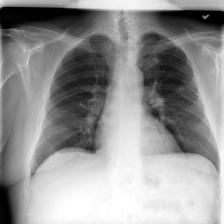normal: (24, 30, 220, 176)
